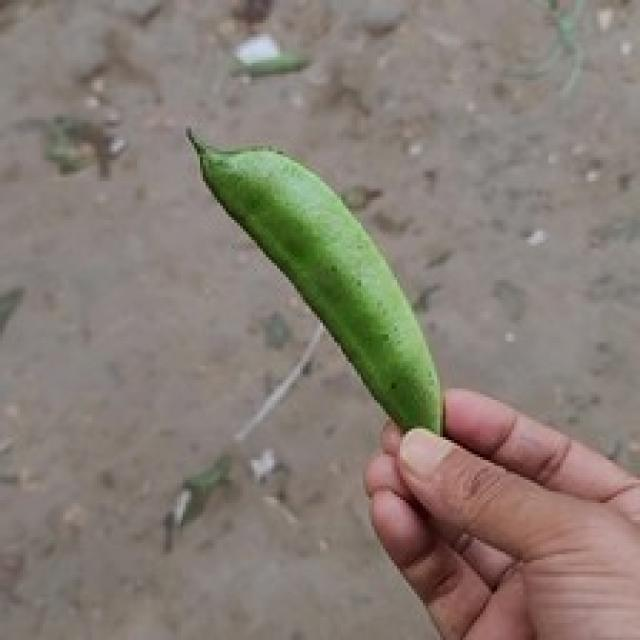Bean: (183, 123, 446, 437)
